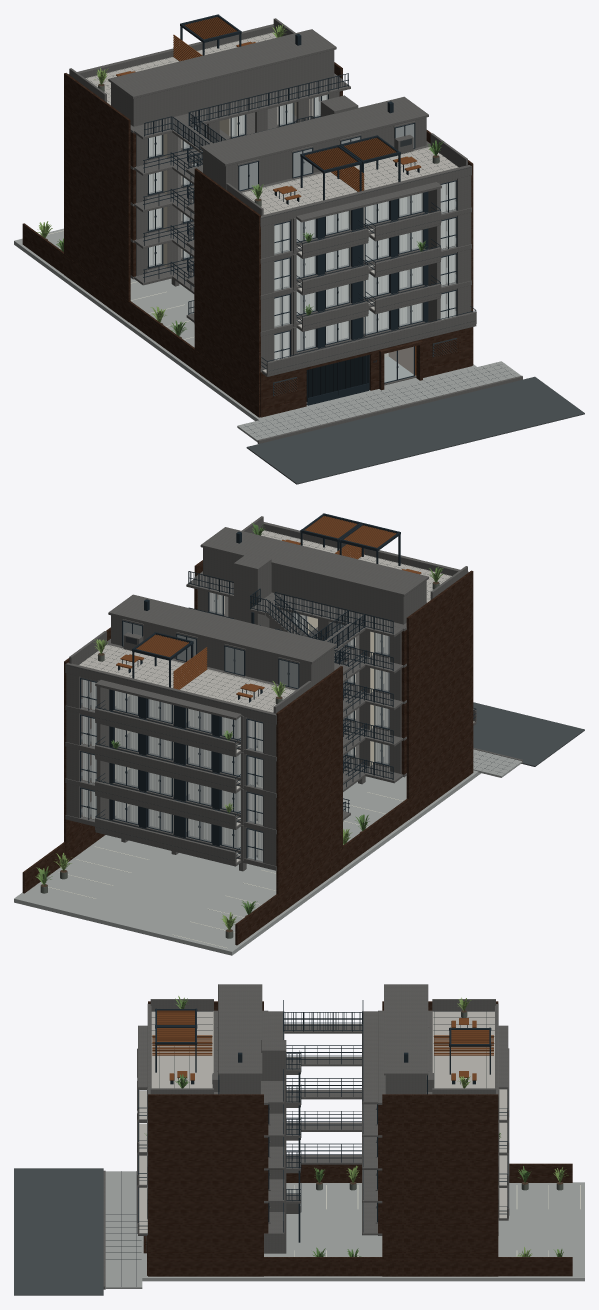
Rendered from guareschi-163.glb.
The picture shows the model from 3 angles, top to bottom: view 1: azimuth 30°, elevation 25°; view 2: azimuth 150°, elevation 25°; view 3: azimuth 270°, elevation 25°; orthographic projection. The views are drawn at different scales.
Visible parts, largest first — view 1: 05_Terrazas__Revoque_mineral_gris, 02_Fachada_frente__Revoque_mineral_gris, 10_Contexto__Asfalto, 06_Carpinterias__DVH_transparente, 02_Fachada_frente__Ladrillo_visto, 03_Contrafrente__Ladrillo_visto, 10_Contexto__Vereda_gris, 07_Cortinas__Lino_crudo, 04_Patio__Revoque_mineral_gris, 01_Estructura__Revoque_mineral_gris, 05_Terrazas__Porcelanato_terraza, 10_Contexto__Ladrillo_visto (+15 smaller); view 2: 10_Contexto__Vereda_gris, 05_Terrazas__Revoque_mineral_gris, 03_Contrafrente__Revoque_mineral_gris, 03_Contrafrente__Ladrillo_visto, 06_Carpinterias__DVH_transparente, 02_Fachada_frente__Ladrillo_visto, 07_Cortinas__Lino_crudo, 04_Patio__Revoque_mineral_gris, 10_Contexto__Ladrillo_visto, 12_Escalera_corregida__Aluminio_grafito, 01_Estructura__Revoque_mineral_gris, 05_Terrazas__Porcelanato_terraza (+13 smaller); view 3: 03_Contrafrente__Ladrillo_visto, 02_Fachada_frente__Ladrillo_visto, 10_Contexto__Vereda_gris, 05_Terrazas__Revoque_mineral_gris, 10_Contexto__Asfalto, 10_Contexto__Ladrillo_visto, 04_Patio__Revoque_mineral_gris, 05_Terrazas__Porcelanato_terraza, 12_Escalera_corregida__Revoque_mineral_gris, 05_Terrazas__Madera_listones, 12_Escalera_corregida__Aluminio_grafito, 04_Patio__Aluminio_grafito (+11 smaller).
Part boxes in pixels (x1,y1,x2,y2): 05_Terrazas__Revoque_mineral_gris: [69, 18, 467, 215]; 02_Fachada_frente__Revoque_mineral_gris: [260, 165, 476, 376]; 10_Contexto__Asfalto: [246, 376, 584, 484]; 06_Carpinterias__DVH_transparente: [149, 94, 456, 382]; 02_Fachada_frente__Ladrillo_visto: [194, 130, 473, 417]; 03_Contrafrente__Ladrillo_visto: [64, 62, 342, 321]; 10_Contexto__Vereda_gris: [14, 228, 520, 442]; 07_Cortinas__Lino_crudo: [147, 95, 455, 360]; 04_Patio__Revoque_mineral_gris: [134, 91, 358, 322]; 01_Estructura__Revoque_mineral_gris: [130, 73, 456, 358]; 05_Terrazas__Porcelanato_terraza: [85, 32, 458, 214]; 10_Contexto__Ladrillo_visto: [22, 223, 258, 416]; 10_Contexto__Vereda_gris: [14, 749, 522, 955]; 05_Terrazas__Revoque_mineral_gris: [69, 516, 467, 713]; 03_Contrafrente__Revoque_mineral_gris: [65, 662, 276, 870]; 03_Contrafrente__Ladrillo_visto: [64, 627, 342, 914]; 06_Carpinterias__DVH_transparente: [81, 592, 388, 861]; 02_Fachada_frente__Ladrillo_visto: [194, 560, 473, 819]; 07_Cortinas__Lino_crudo: [82, 593, 389, 860]; 04_Patio__Revoque_mineral_gris: [197, 553, 403, 820]; 10_Contexto__Ladrillo_visto: [22, 752, 473, 945]; 12_Escalera_corregida__Aluminio_grafito: [188, 571, 393, 811]; 01_Estructura__Revoque_mineral_gris: [81, 571, 406, 871]; 05_Terrazas__Porcelanato_terraza: [79, 530, 451, 712]; 03_Contrafrente__Ladrillo_visto: [382, 1001, 498, 1276]; 02_Fachada_frente__Ladrillo_visto: [148, 1001, 263, 1276]; 10_Contexto__Vereda_gris: [105, 1171, 584, 1288]; 05_Terrazas__Revoque_mineral_gris: [150, 984, 495, 1094]; 10_Contexto__Asfalto: [14, 1168, 103, 1295]; 10_Contexto__Ladrillo_visto: [148, 1163, 572, 1276]; 04_Patio__Revoque_mineral_gris: [261, 1040, 377, 1253]; 05_Terrazas__Porcelanato_terraza: [151, 1011, 494, 1088]; 12_Escalera_corregida__Revoque_mineral_gris: [268, 1011, 377, 1213]; 05_Terrazas__Madera_listones: [152, 1010, 493, 1080]; 12_Escalera_corregida__Aluminio_grafito: [283, 1000, 363, 1242]; 04_Patio__Aluminio_grafito: [286, 1045, 363, 1232].
Size of the model in its own units: 24 by 18.88 by 45.8.
18 materials, 3 textured.
